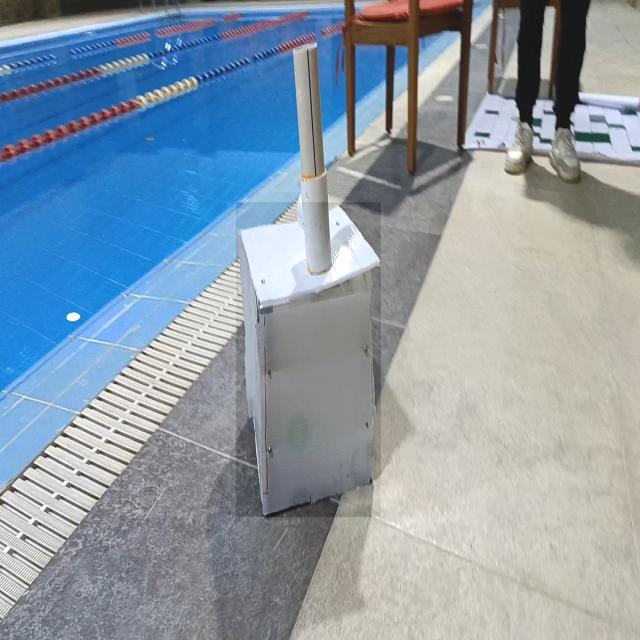Cube: (236, 202, 381, 517)
